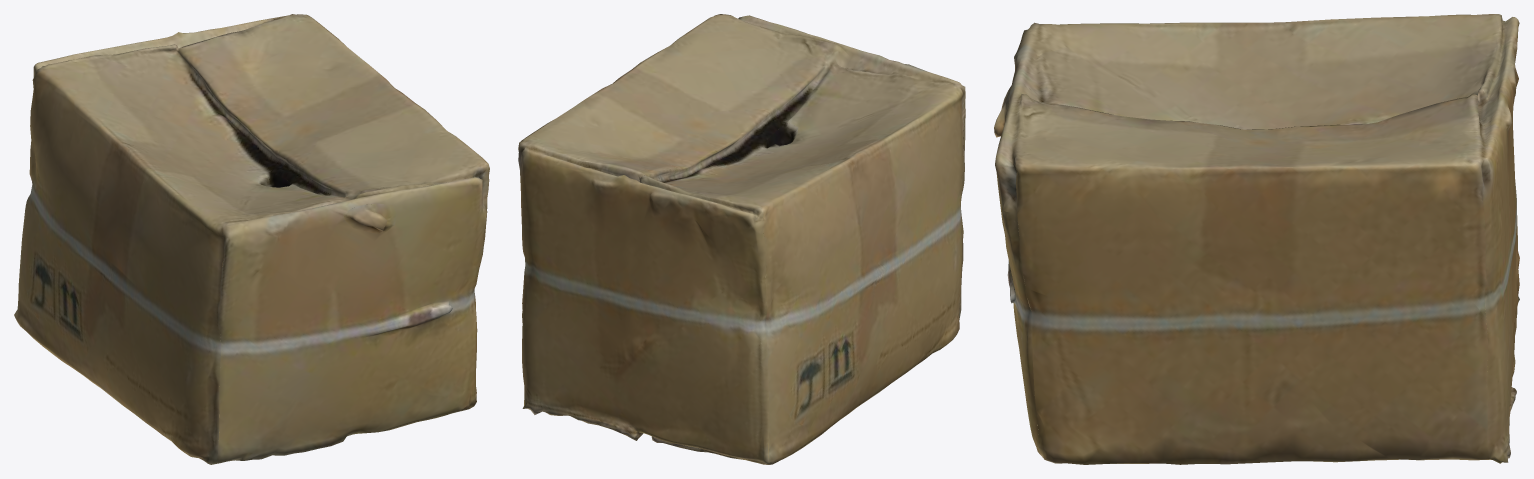
File: cardboard_box_01.glb
3 views of the same model, side by side, from view 1: azimuth 30°, elevation 25°; view 2: azimuth 150°, elevation 25°; view 3: azimuth 270°, elevation 25° (orthographic). The views are drawn at different scales.
Parts seen in each view (by area): view 1: cardboard_box_01; view 2: cardboard_box_01; view 3: cardboard_box_01.
Part boxes in pixels (x1,y1,x2,y2): cardboard_box_01: [14, 14, 489, 464]; cardboard_box_01: [518, 14, 965, 464]; cardboard_box_01: [994, 14, 1519, 464].
Bounding box in the file's own units: 0.3872 × 0.3415 × 0.5159.
1 material, 1 textured.
